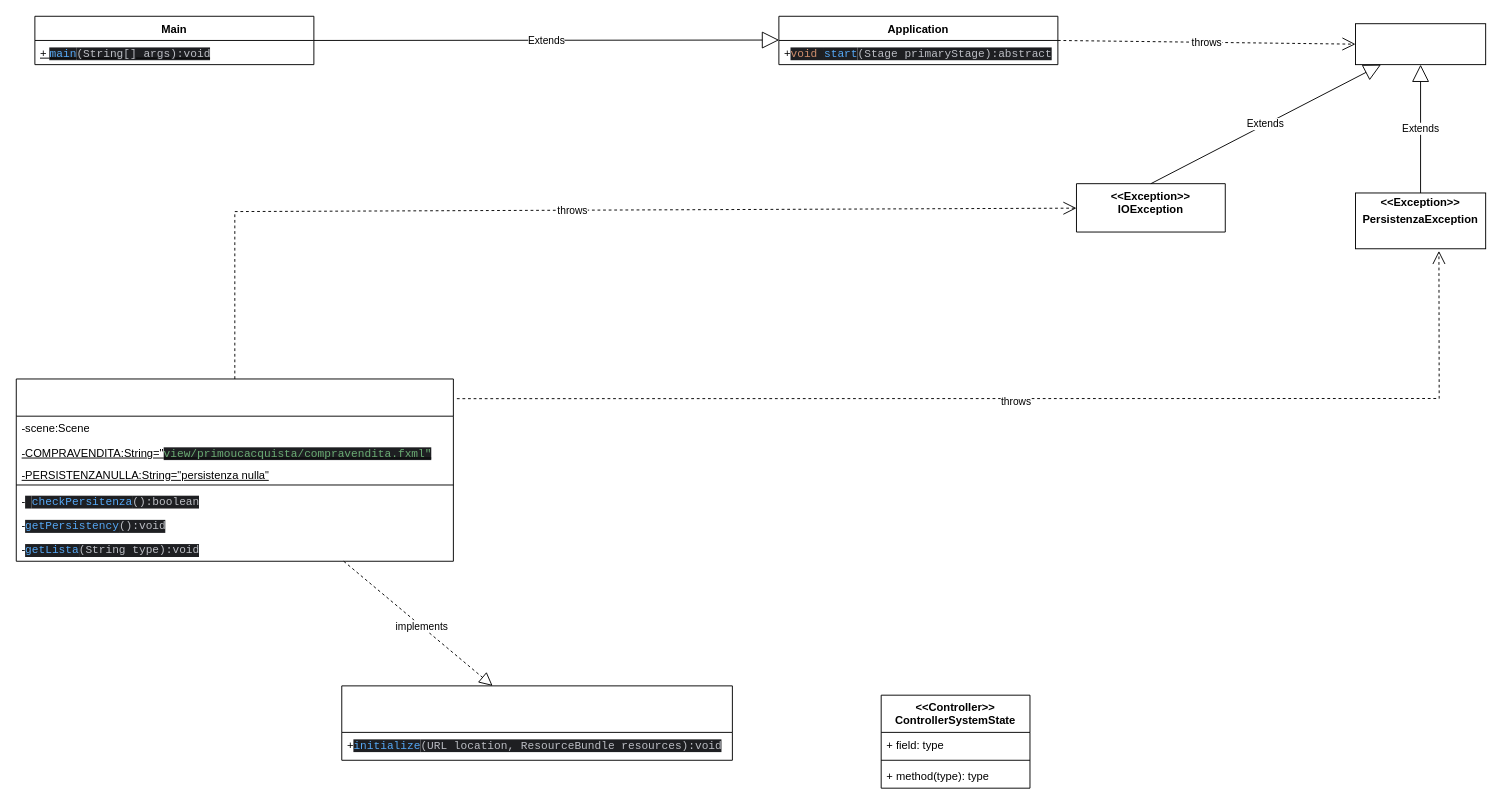
Image size: 1502x807. Some labels were removed from this diagram. Each missing label, with the box of its shape:
<<buondary>> BoundaryHomePage: (15, 378, 453, 561)
<<Exception>> Exception: (1355, 23, 1486, 65)
<<interface>> Initializable: (341, 685, 732, 760)
